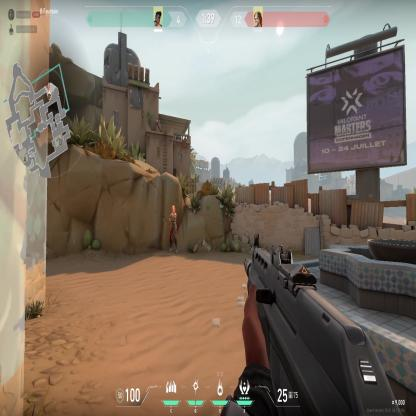enemy: (167, 202, 178, 253)
